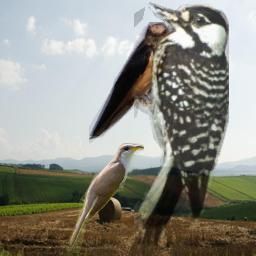Cuckoo: (65, 143, 144, 253)
Swallow: (89, 22, 170, 143)
Woodpecker: (134, 1, 229, 256)
